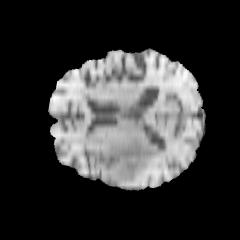glioma: (105, 138, 160, 182)
